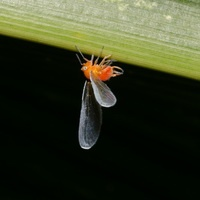insect: (76, 47, 122, 148)
